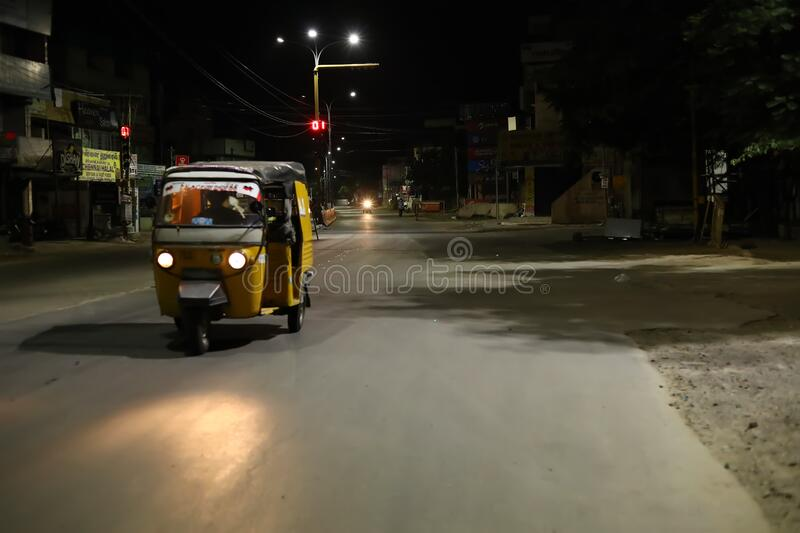rickshaw: (146, 147, 329, 353)
